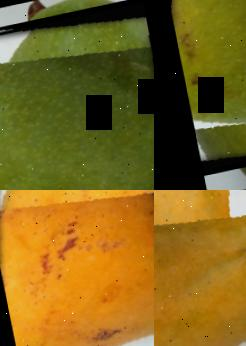PartiallyRipe: (154, 190, 246, 346)
Ripe: (0, 190, 154, 346)
Unripe: (0, 0, 154, 190), (154, 0, 246, 172)
